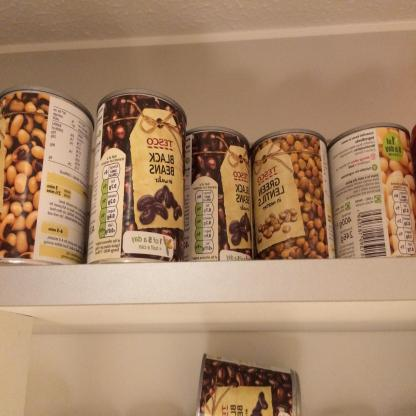metal: (88, 88, 188, 266), (2, 83, 95, 267), (327, 123, 416, 264), (251, 128, 338, 268), (187, 128, 254, 266), (196, 354, 302, 416)
